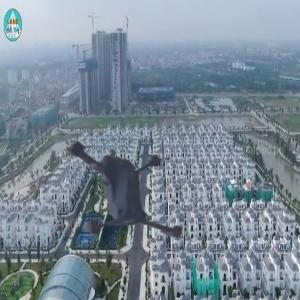drone: (26, 108, 182, 264)
